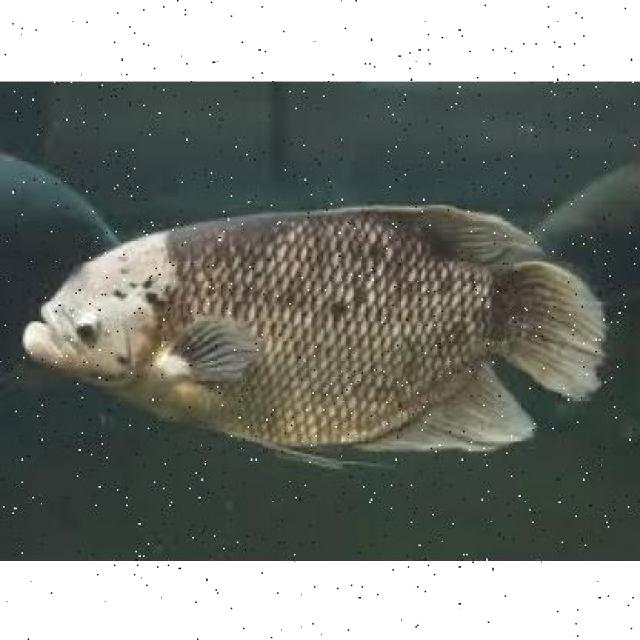gurame: (21, 203, 604, 462)
